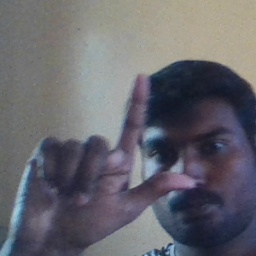L: (15, 73, 195, 246)
